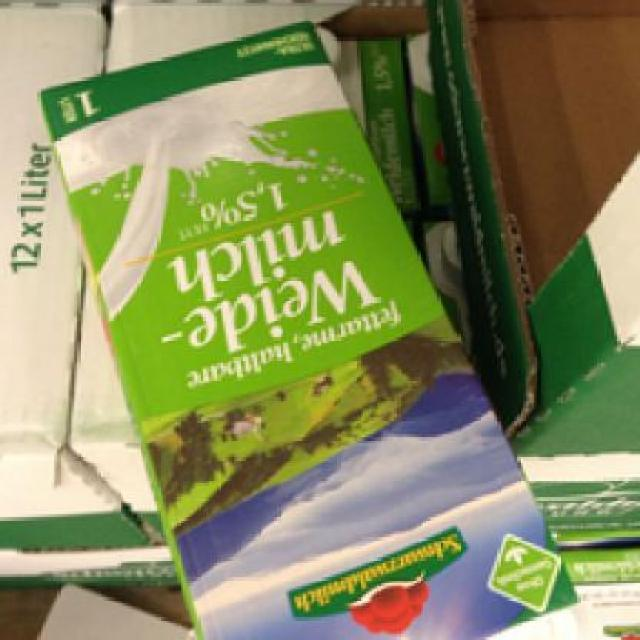Milk: (26, 14, 574, 637)
